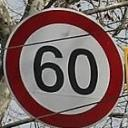speed_limit_60: (2, 6, 124, 127)
